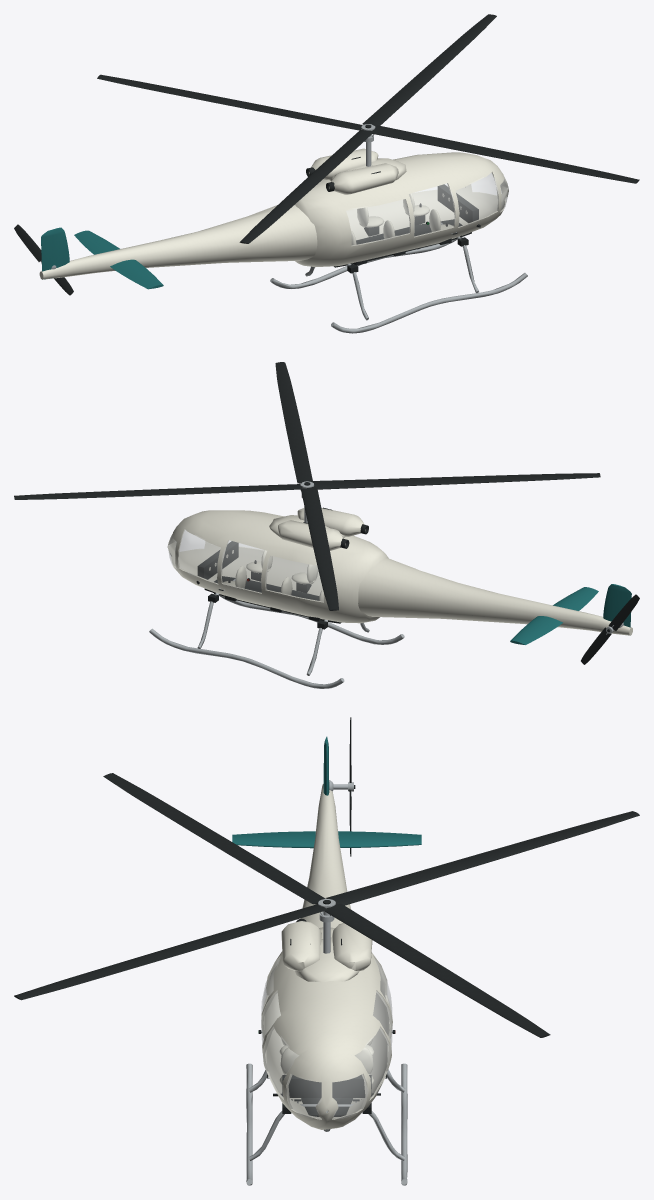
Rendered from heli.glb.
3 views of the same model, one above another, from view 1: azimuth 30°, elevation 25°; view 2: azimuth 150°, elevation 25°; view 3: azimuth 270°, elevation 25° (orthographic). The views are drawn at different scales.
Visible parts, largest first — view 1: Closed engine pod 1, Attached engine grille rib 1 0, Fitted finite cabin glazing 1 side 1, Closed tail rotor gearbox, Seated vertical tail fin, Seat 0 1 curved cushion; view 2: Closed engine pod 1, Attached engine grille rib 1 0, Fitted finite cabin glazing 1 side 1, Closed tail rotor gearbox, Seated vertical tail fin, Seat 0 1 curved cushion; view 3: Closed engine pod 1, Attached engine grille rib 1 0, Fitted finite cabin glazing 1 side 1, Closed tail rotor gearbox, Seated vertical tail fin, Seat 0 1 curved cushion.
Part boxes in pixels (left/top/right/bottom): Closed engine pod 1: left=39, top=148, right=508, bottom=279; Attached engine grille rib 1 0: left=14, top=14, right=639, bottom=295; Fitted finite cabin glazing 1 side 1: left=346, top=172, right=508, bottom=245; Closed tail rotor gearbox: left=40, top=124, right=527, bottom=333; Seated vertical tail fin: left=41, top=227, right=163, bottom=289; Seat 0 1 curved cushion: left=351, top=193, right=453, bottom=245; Closed engine pod 1: left=167, top=508, right=632, bottom=635; Attached engine grille rib 1 0: left=14, top=362, right=639, bottom=664; Fitted finite cabin glazing 1 side 1: left=168, top=529, right=324, bottom=601; Closed tail rotor gearbox: left=149, top=481, right=623, bottom=688; Seated vertical tail fin: left=510, top=584, right=631, bottom=644; Seat 0 1 curved cushion: left=223, top=550, right=323, bottom=601; Closed engine pod 1: left=261, top=784, right=392, bottom=1129; Attached engine grille rib 1 0: left=14, top=717, right=639, bottom=1131; Fitted finite cabin glazing 1 side 1: left=261, top=957, right=392, bottom=1119; Closed tail rotor gearbox: left=246, top=780, right=407, bottom=1185; Seated vertical tail fin: left=232, top=736, right=421, bottom=848; Seat 0 1 curved cushion: left=279, top=1038, right=373, bottom=1084.
Size of the model in its own units: 15.18 by 4.56 by 11.57.
11 materials, 11 textured.
